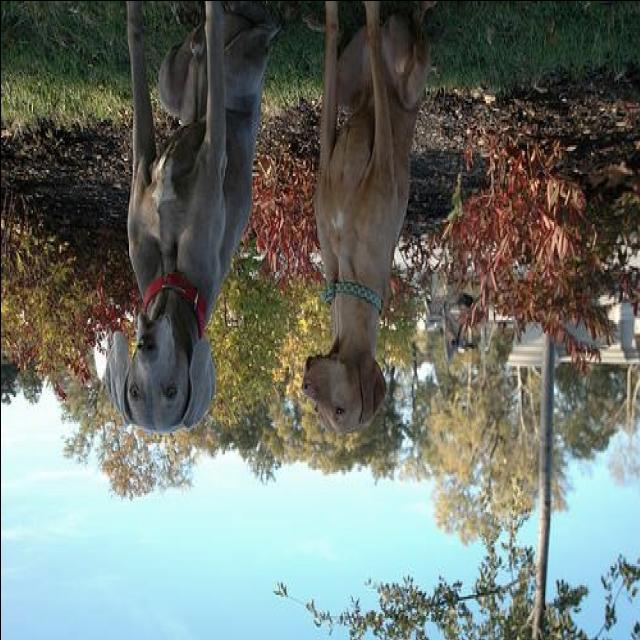vizsla: (96, 2, 270, 492), (298, 2, 433, 436)
